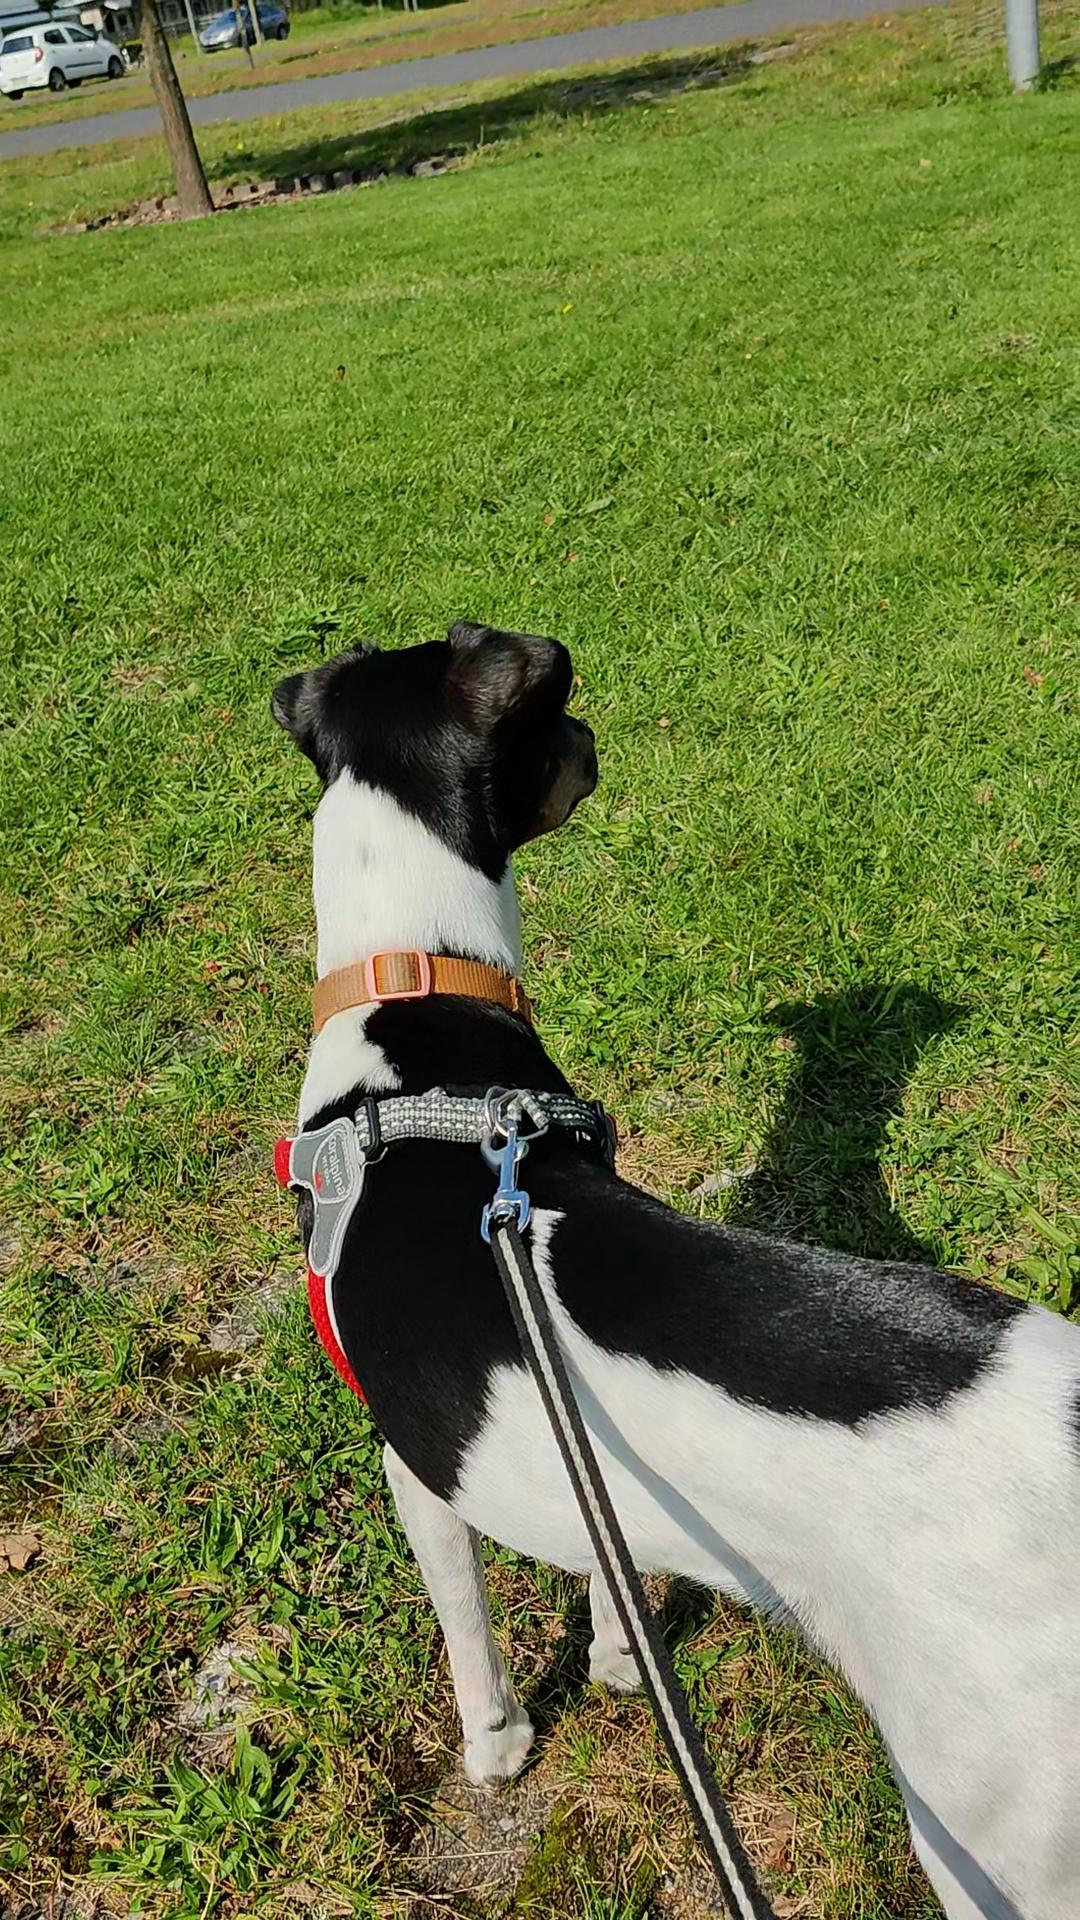Dog: (243, 615, 1079, 1919)
